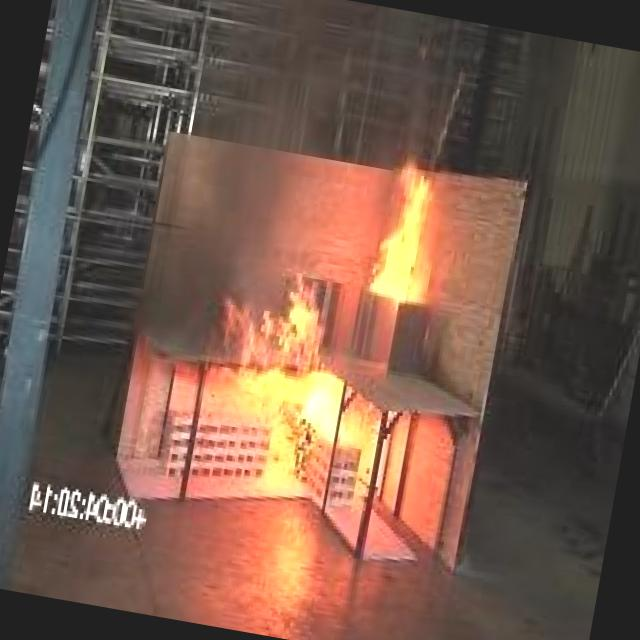fire: (196, 105, 494, 544)
